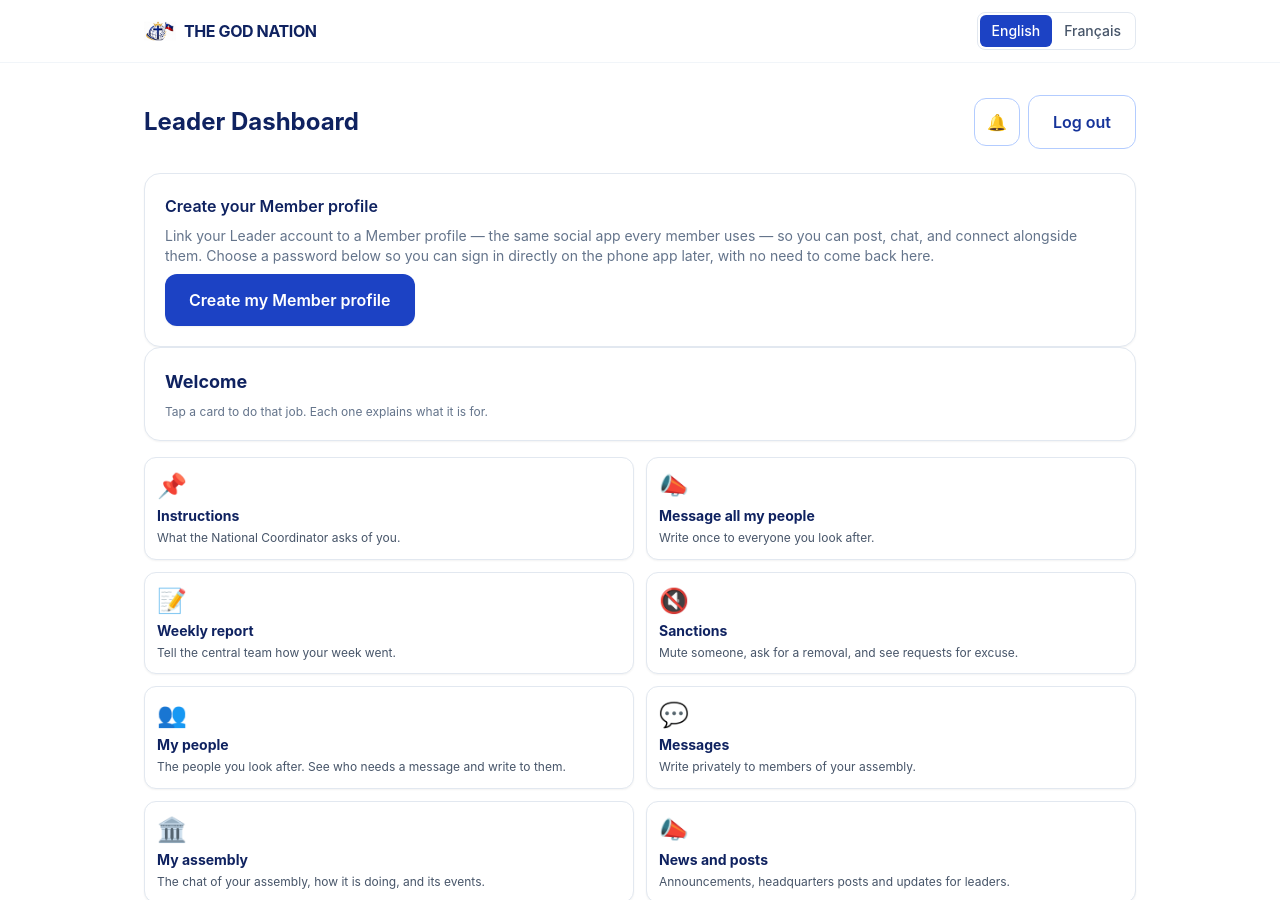
LeaderDashboardPage — Leader <-> Member identity bridge › shows the create-profile card when not linked (asking for a password too), and switches to the fully-linked state on success
Expected: the heading "Create your Member profile" is shown, [165,196,378,216]
Click the button "Create my Member profile": (290, 300) [165,274,414,326]
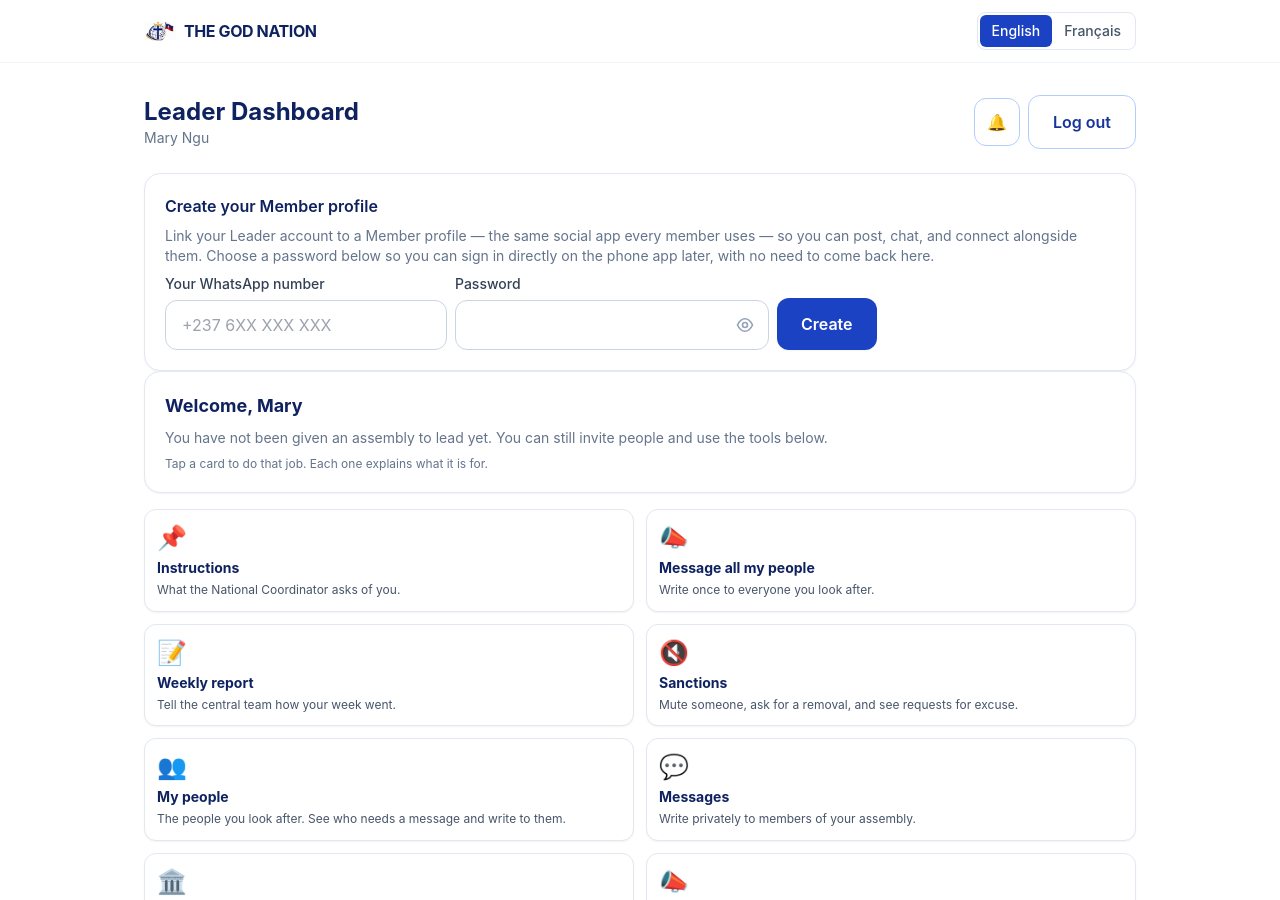
In the field with placeholder "+237 6XX XXX XXX": (306, 325) [165,300,447,350], type "+237670000001"
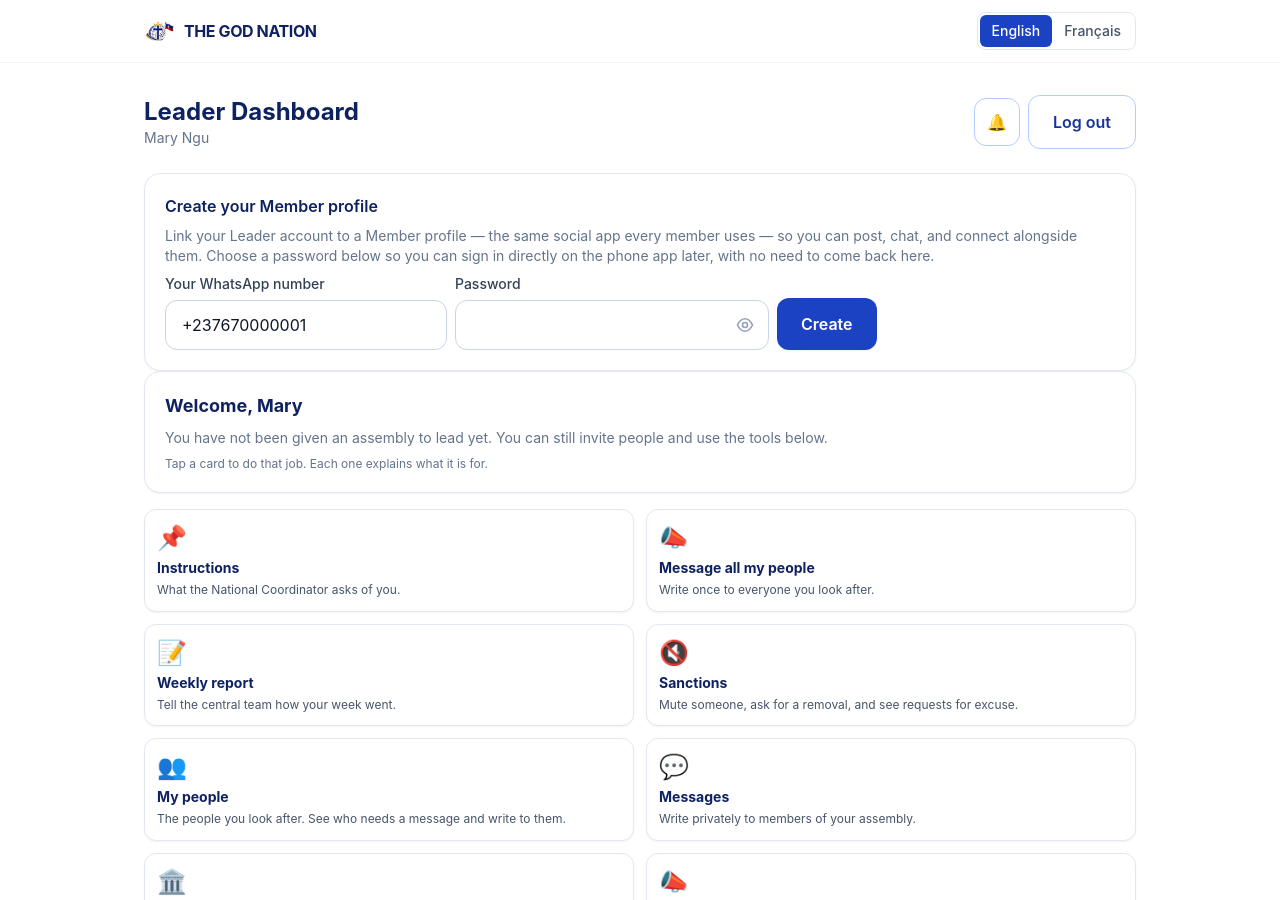
In the password field labelled "Password": (612, 325) [455,300,769,350], type "Testpass123"
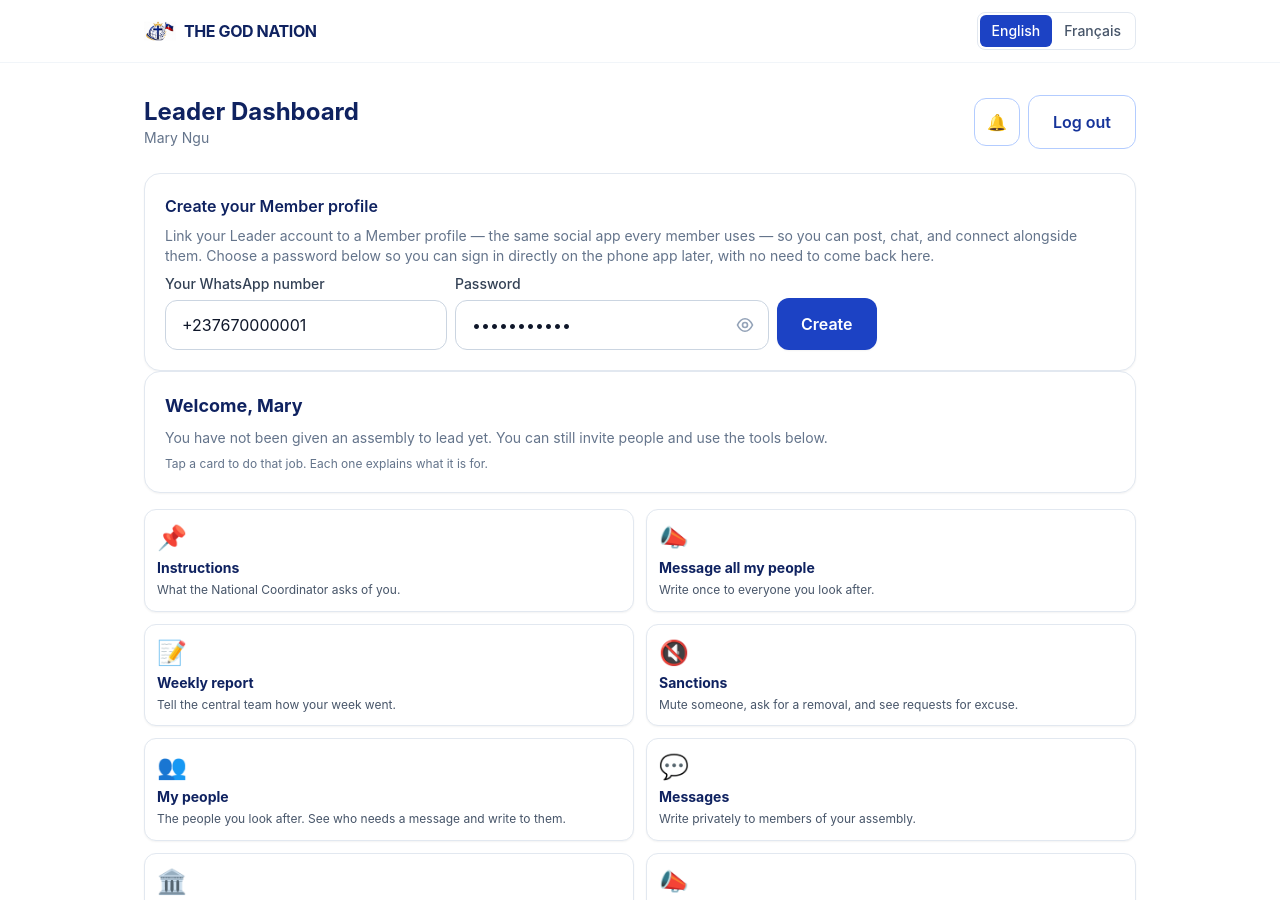
Click the button "Create": (827, 324) [777,298,876,350]
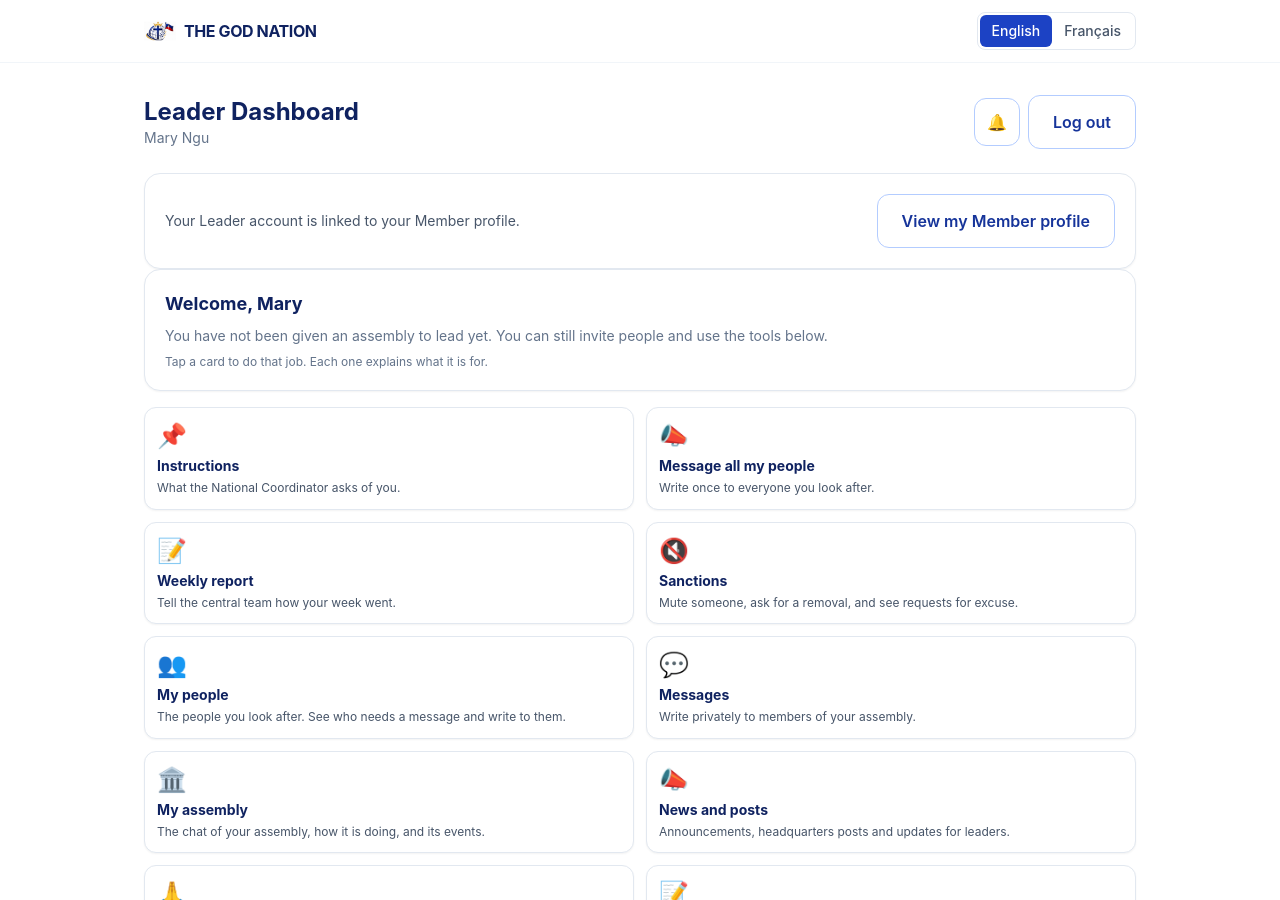
Expected: the text "Your Leader account is linked to your Member profile." is shown, [165,211,520,231]
Expected: the button "View my Member profile" is shown, [877,194,1115,248]
